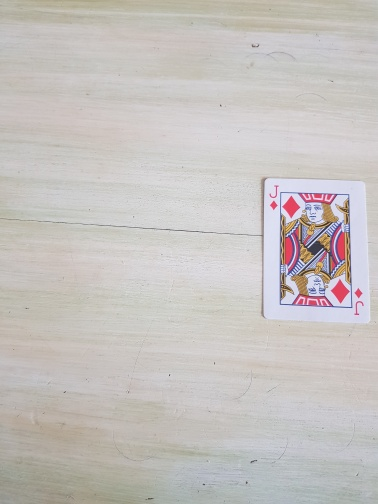jack: (261, 178, 372, 325)
